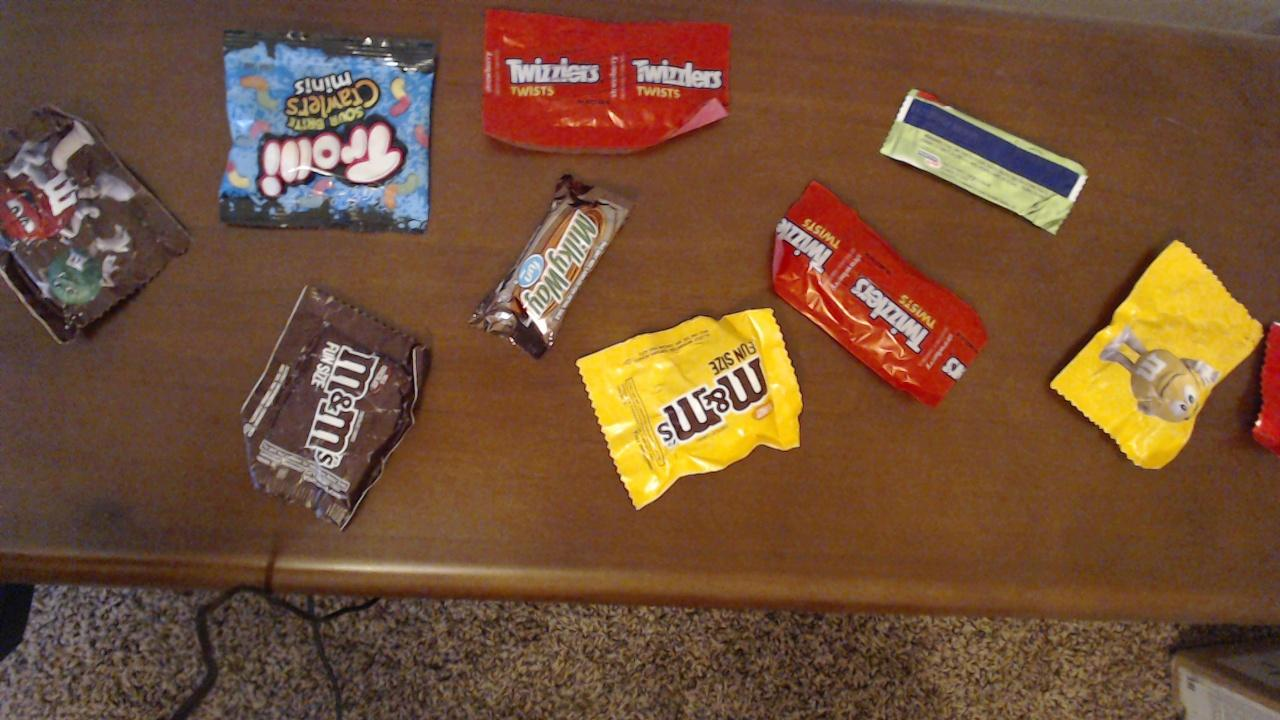MM_regular: (238, 285, 432, 530), (4, 104, 195, 340)
MM_yellow: (1044, 238, 1264, 470), (579, 309, 799, 510)
Trolli: (218, 30, 440, 234)
airheads: (880, 87, 1092, 235)
milky_way: (466, 174, 634, 359)
twizzlers: (777, 179, 993, 408), (479, 8, 733, 154)
